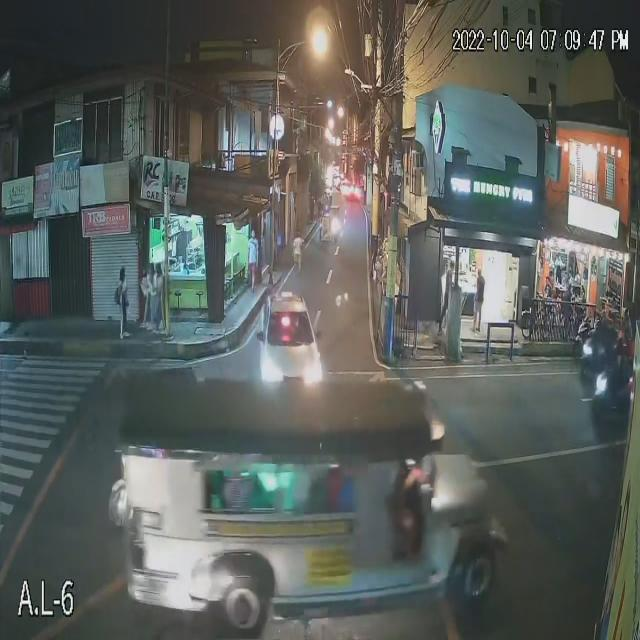motorcycle: (577, 331, 633, 376), (591, 367, 631, 415)
